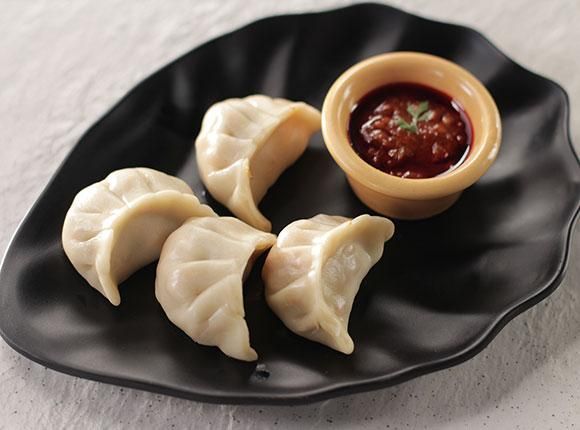momos: (0, 218, 580, 428), (62, 168, 218, 305), (262, 214, 394, 354), (156, 218, 276, 361), (195, 95, 321, 231)
